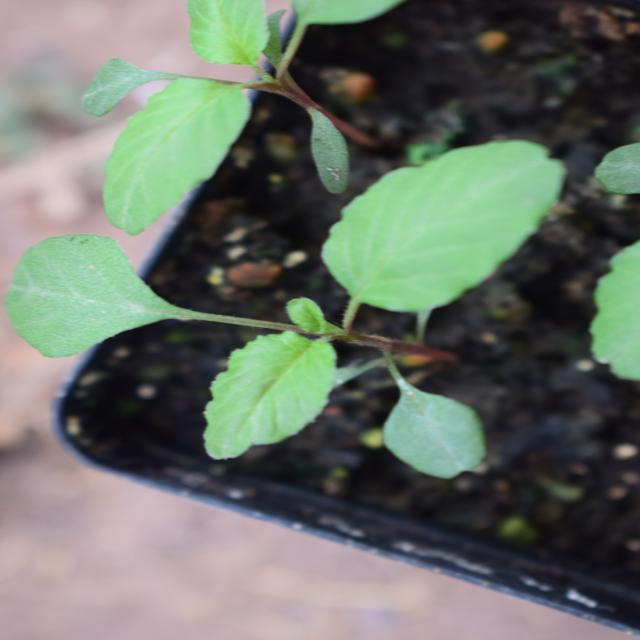pigweed: (154, 5, 526, 574)
